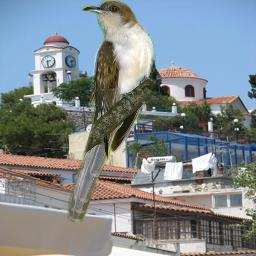Cuckoo: (67, 0, 156, 222)
